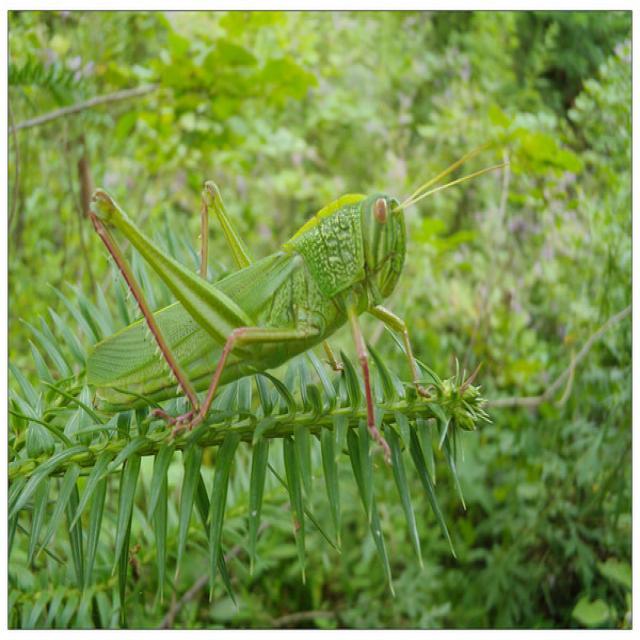ZhaMeng: (59, 168, 437, 422)
